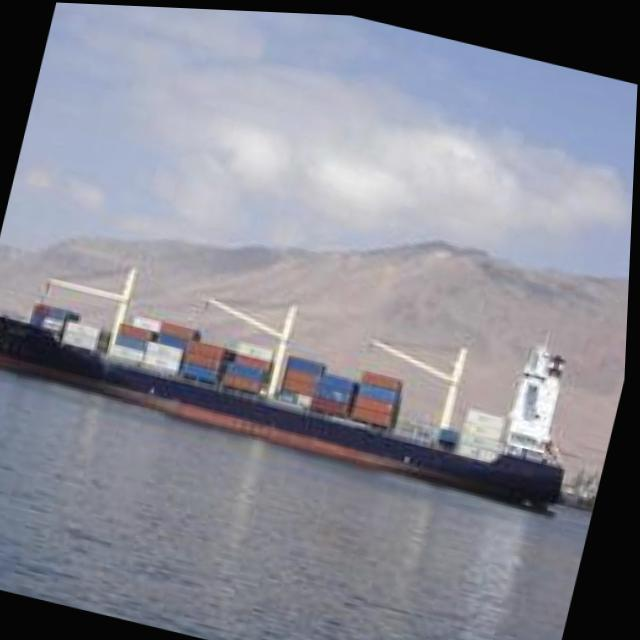ship2: (0, 268, 570, 510)
